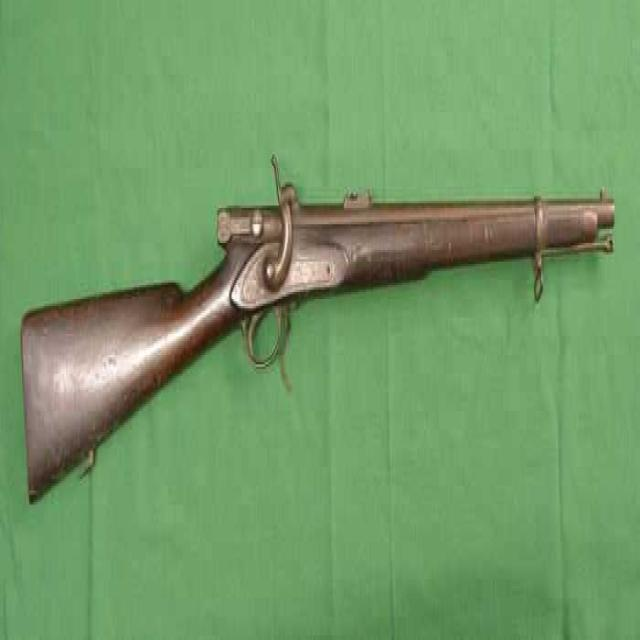Rifle: (11, 147, 627, 530)
